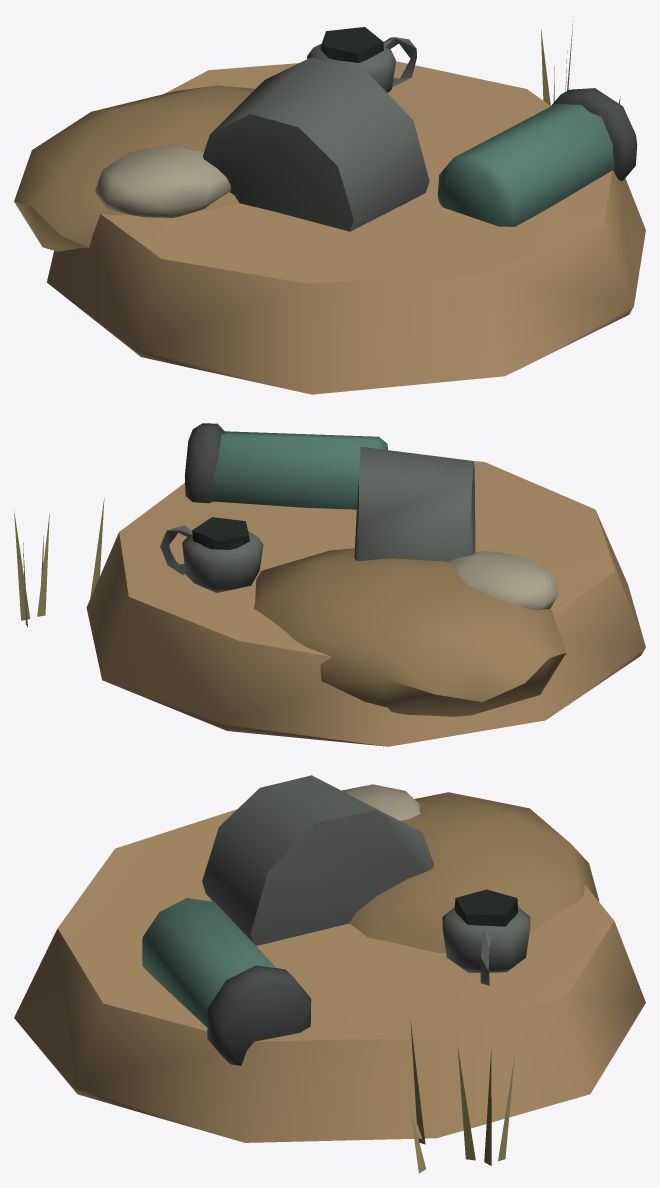
File: lunch_pail_b_lod1.glb
3 renders of one model, top to bottom at view 1: azimuth 30°, elevation 25°; view 2: azimuth 150°, elevation 25°; view 3: azimuth 270°, elevation 25°, orthographic. The views are drawn at different scales.
Visible parts, largest first — view 1: Surface.001; view 2: Surface.001; view 3: Surface.001.
Boxes of the visible parts, x1,y1,x2,y2 form: Surface.001: (14, 20, 645, 394); Surface.001: (14, 423, 645, 746); Surface.001: (14, 775, 645, 1173).
Bounding box in the file's own units: 2.67 × 0.8843 × 2.5.
